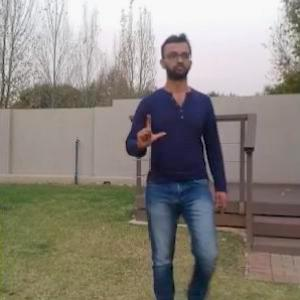land_hand: (134, 108, 174, 154)
